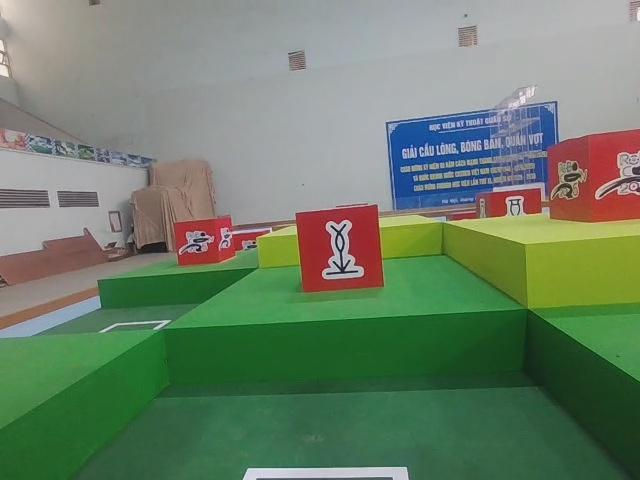R1: (549, 126, 639, 225), (172, 217, 237, 264)
R2 Real: (294, 203, 390, 292)
